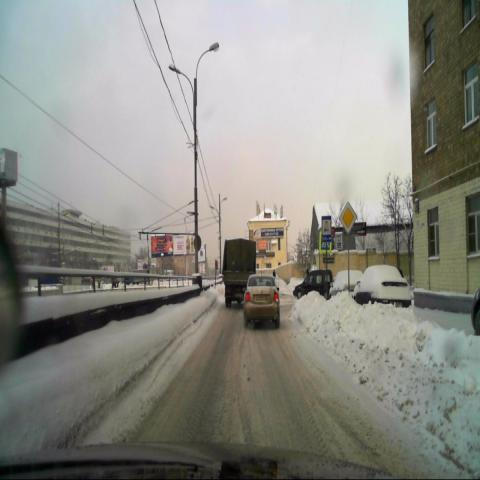7_5: (321, 215, 331, 241)
